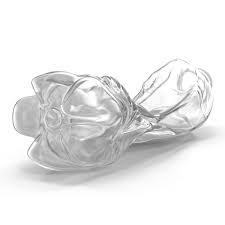plastic: (10, 54, 222, 183)
